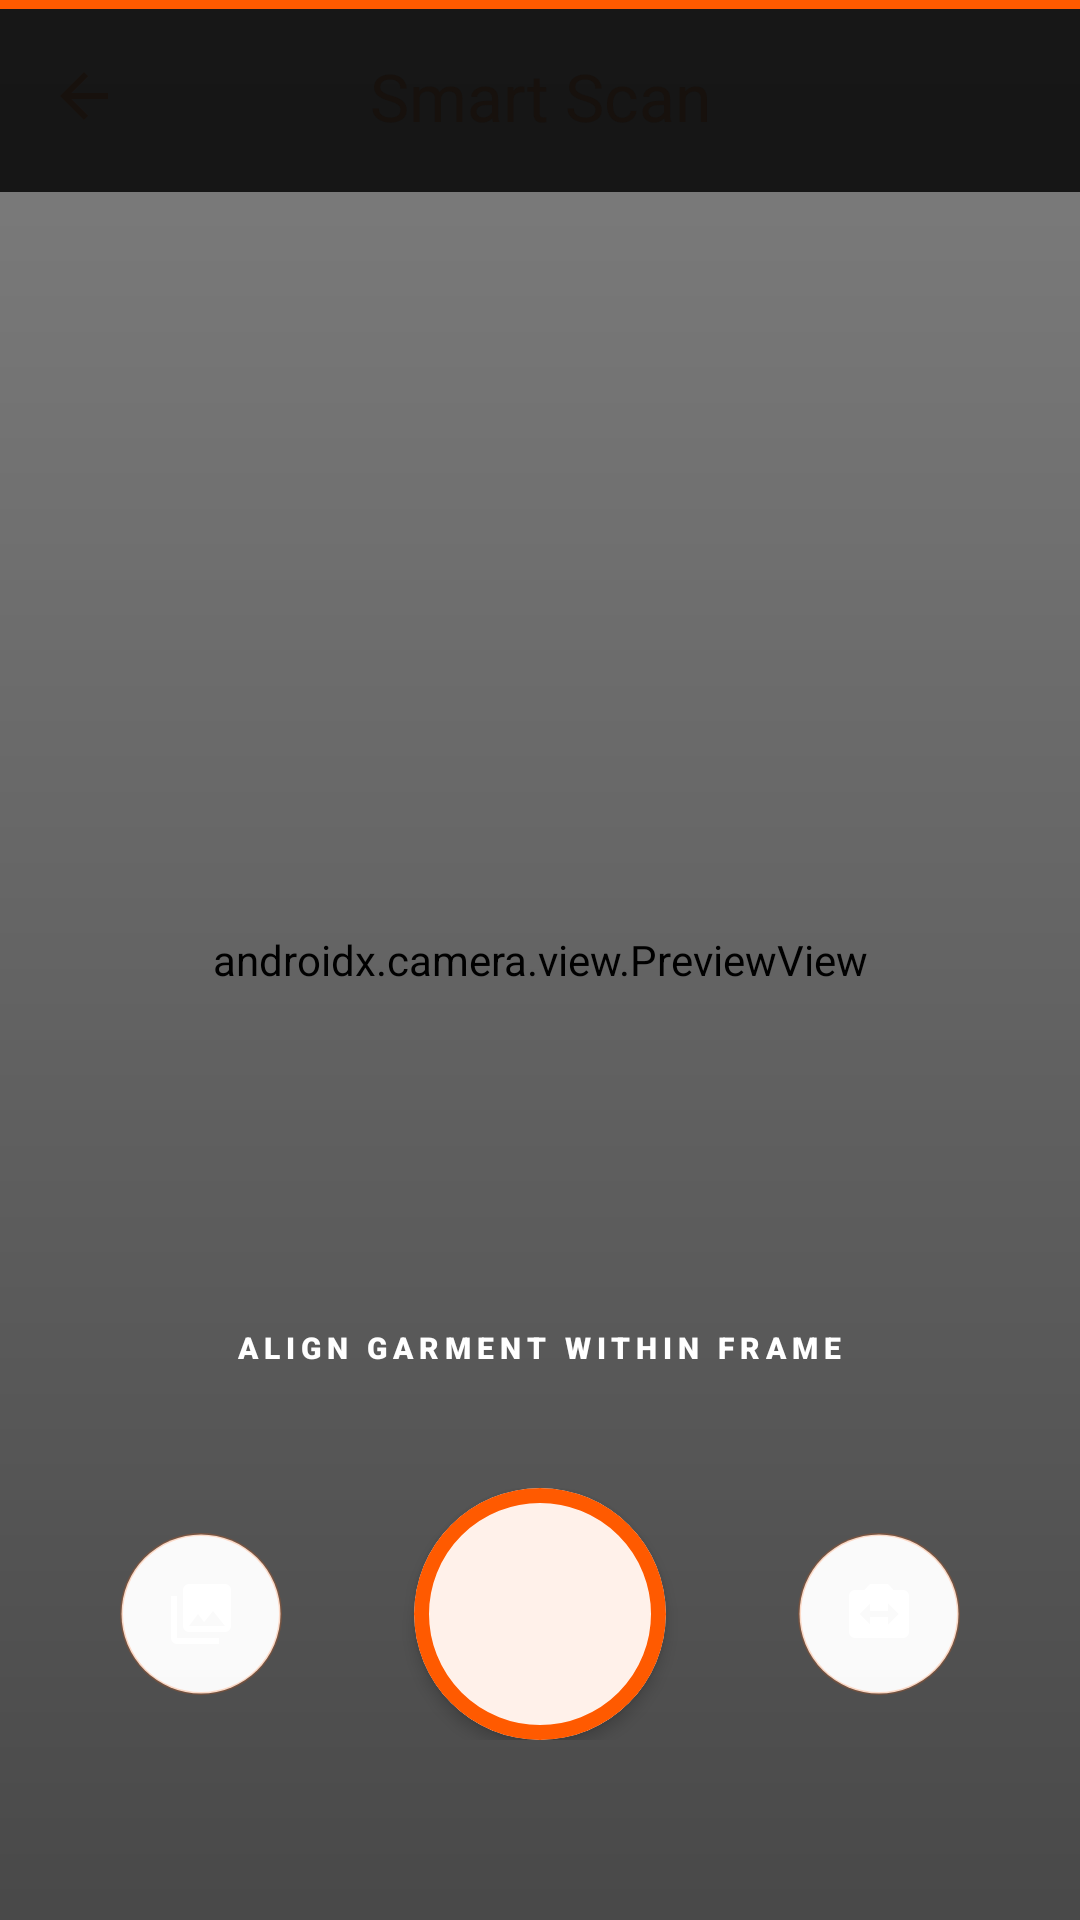

Icon click points for this 1080px x 1920px phone screenshot, format (x,y):
gallery: (201,1614)
switch camera: (879,1614)
